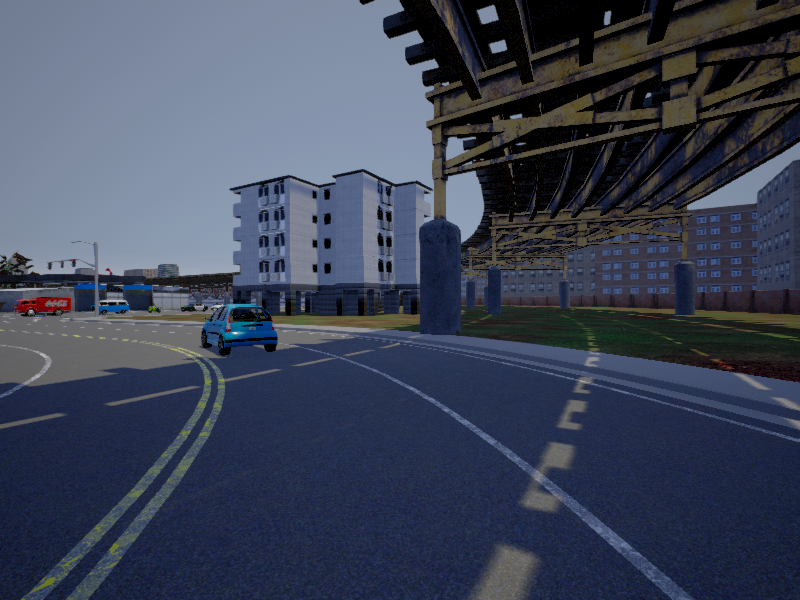Benign: (201, 305, 281, 354), (15, 297, 74, 315), (93, 300, 131, 314), (181, 303, 207, 311)
